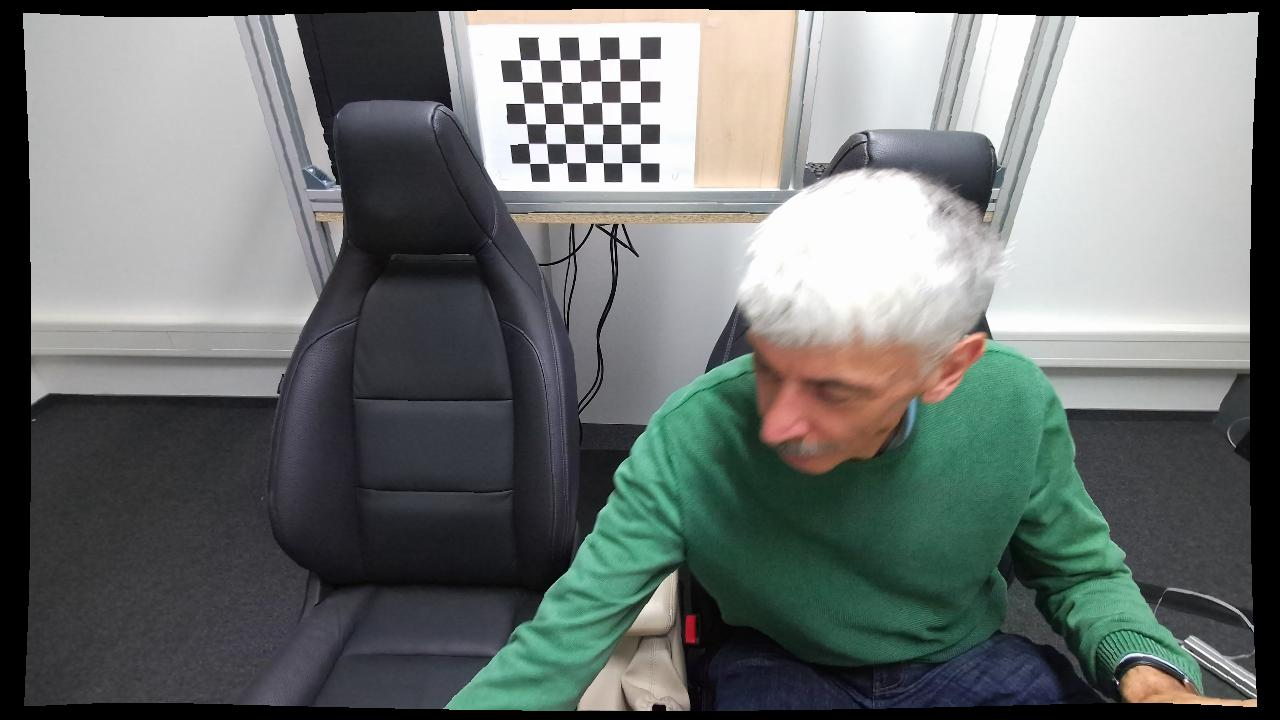Distracted: (442, 149, 1101, 711)
